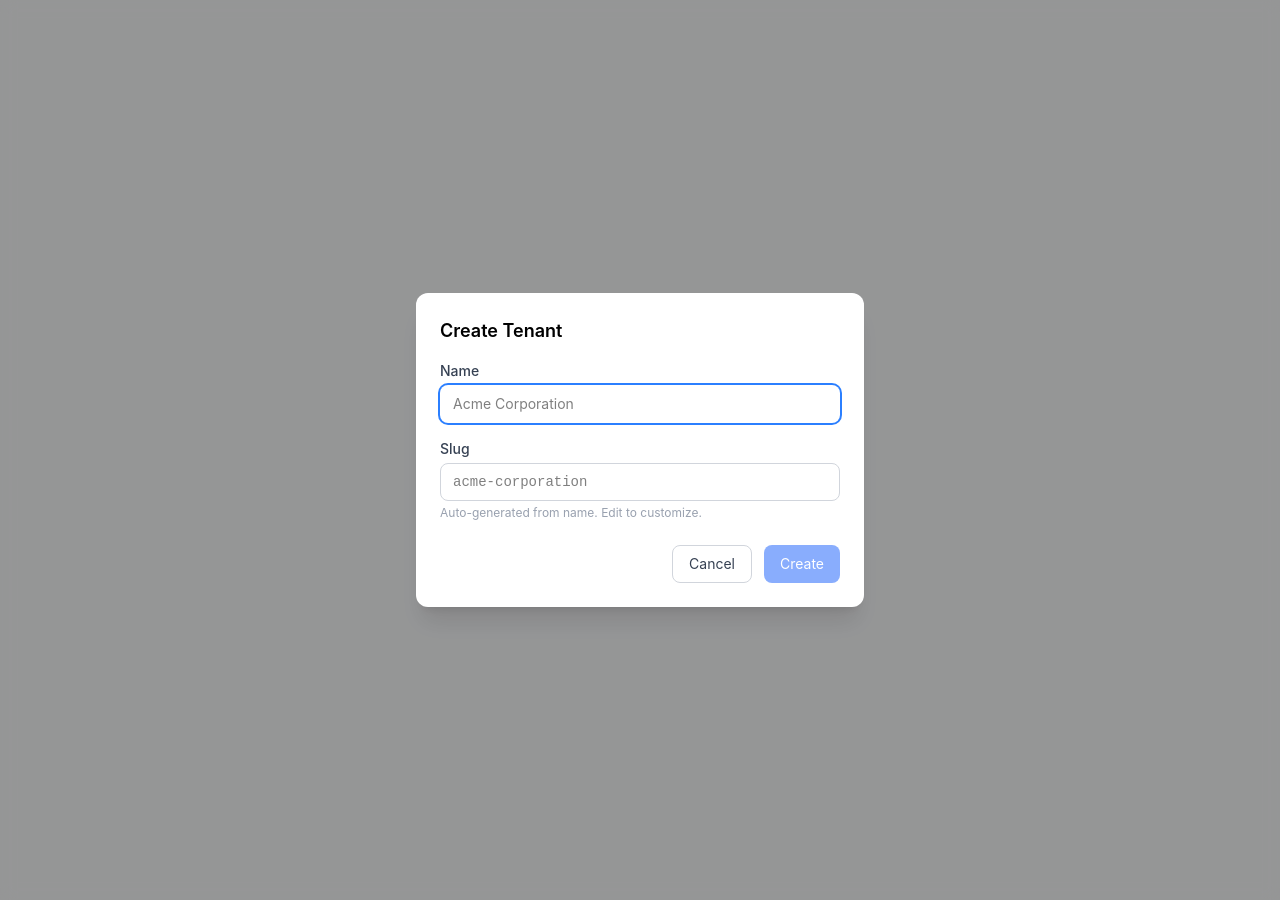
Test case: CreateTenantDialog › shows error message on creation failure
Step 1. Type "Acme" into the field labelled "Name" → x=640, y=404, box [440,385,840,423]
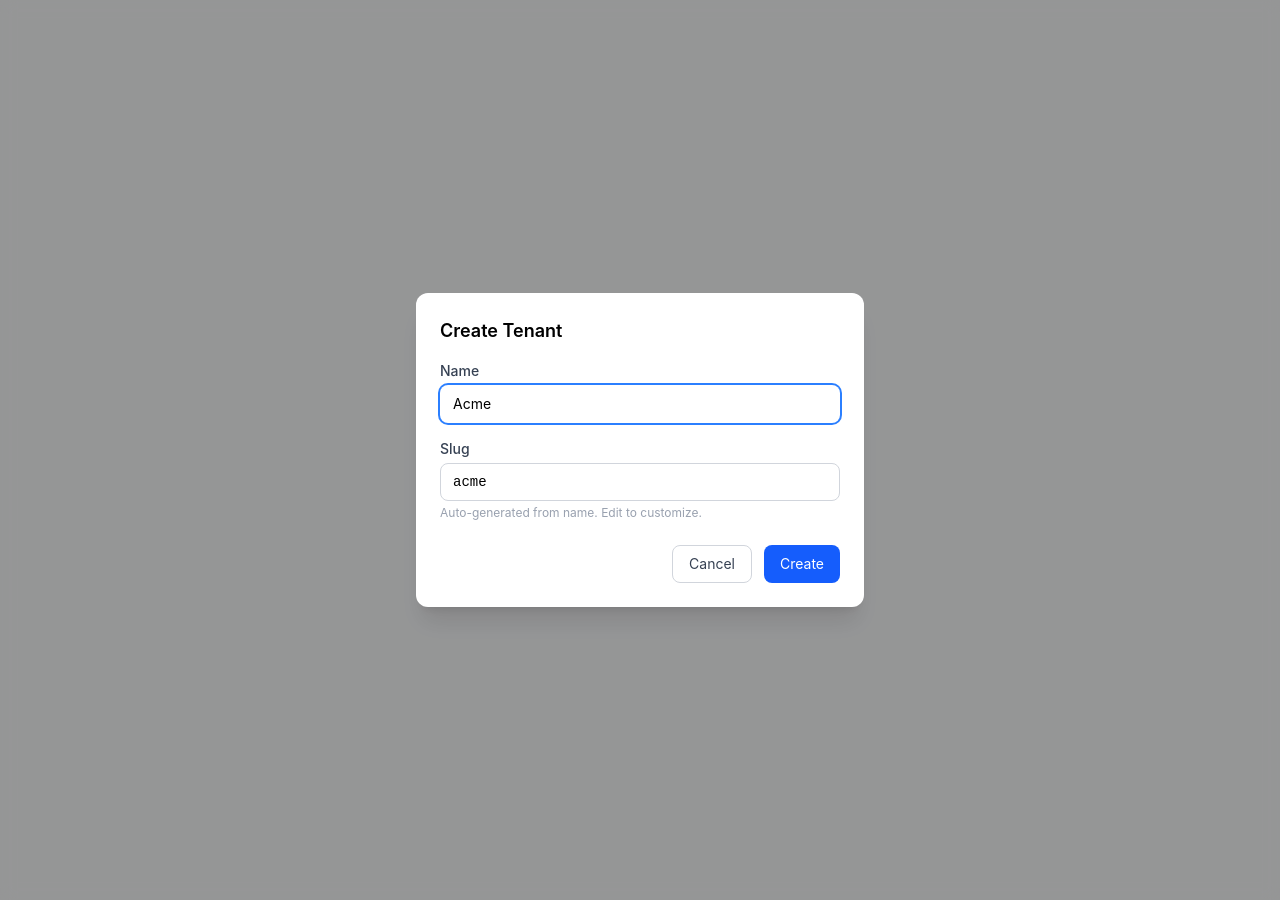
Step 2. Click the button "Create" → x=802, y=564, box [764,545,840,583]
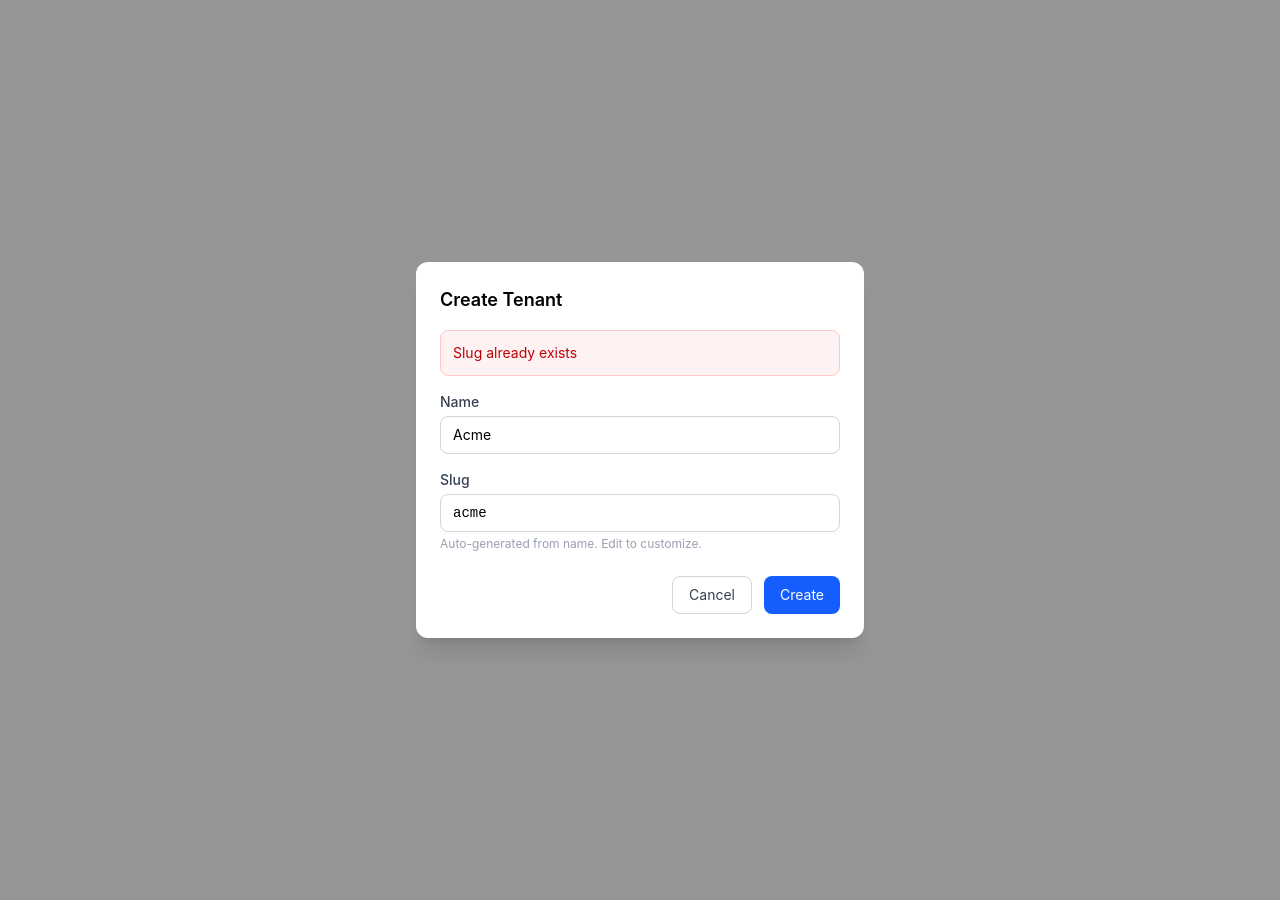
Check: the text "Slug already exists" is shown, box [440,330,840,376]
